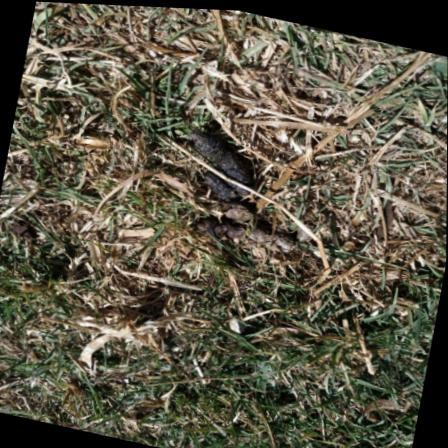dog-poop: (157, 128, 319, 277)
